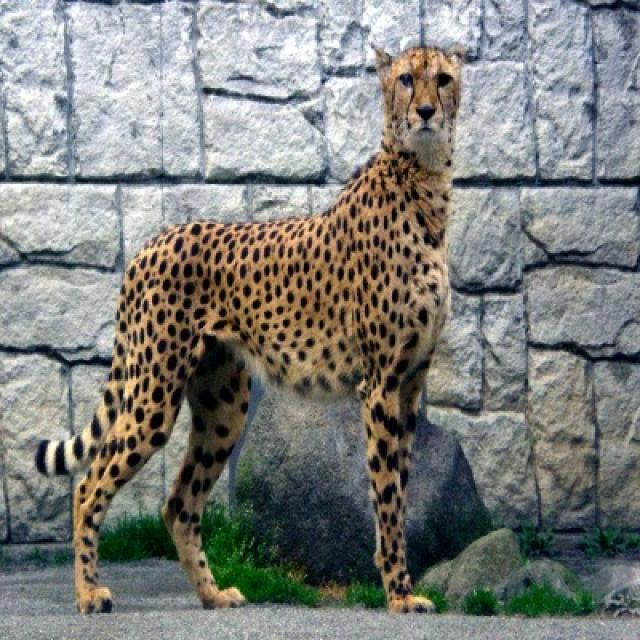Cheetah: (48, 46, 462, 611)
